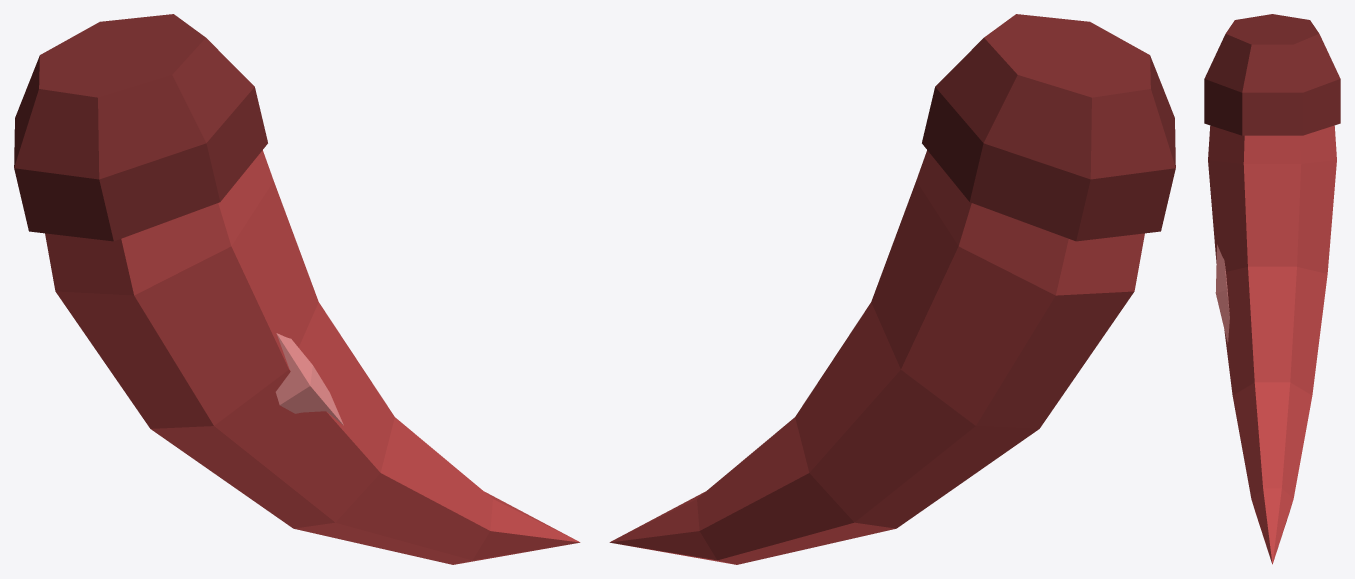
Rendered from fang.glb.
The picture shows the model from 3 angles, left to right: view 1: azimuth 30°, elevation 25°; view 2: azimuth 150°, elevation 25°; view 3: azimuth 270°, elevation 25°; orthographic projection. The views are drawn at different scales.
Visible parts, largest first — view 1: fang; view 2: fang; view 3: fang.
Boxes of the visible parts, <box> form: fang: <box>14,14,580,564</box>; fang: <box>609,14,1175,564</box>; fang: <box>1204,14,1340,564</box>.
Bounding box in the file's own units: 0.2819 × 0.2909 × 0.0905.
